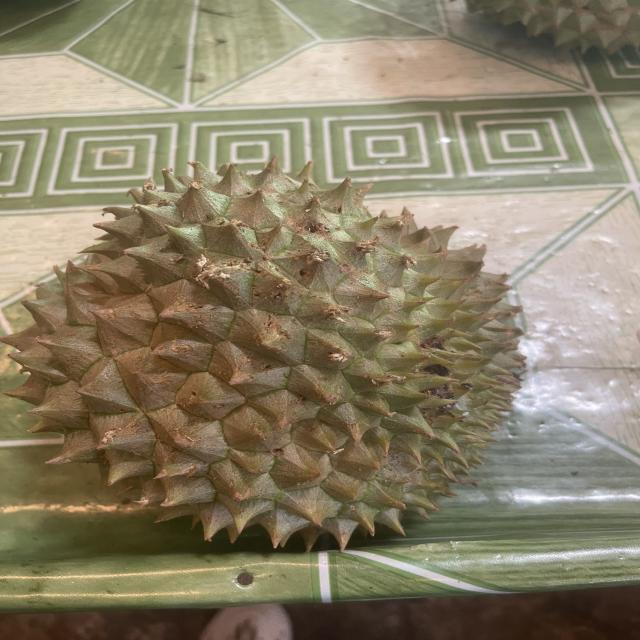mature: (0, 154, 553, 554)
